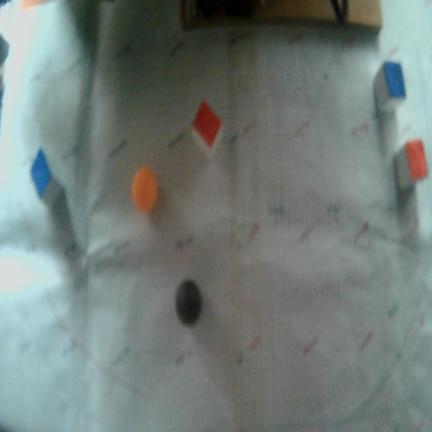circle_blue: (176, 281, 202, 327)
circle_orange: (131, 167, 159, 214)
rectangle_blue: (31, 150, 51, 199)
rectangle_orange: (193, 99, 221, 148)
square_blue: (383, 64, 408, 98)
square_orange: (404, 142, 429, 182)
